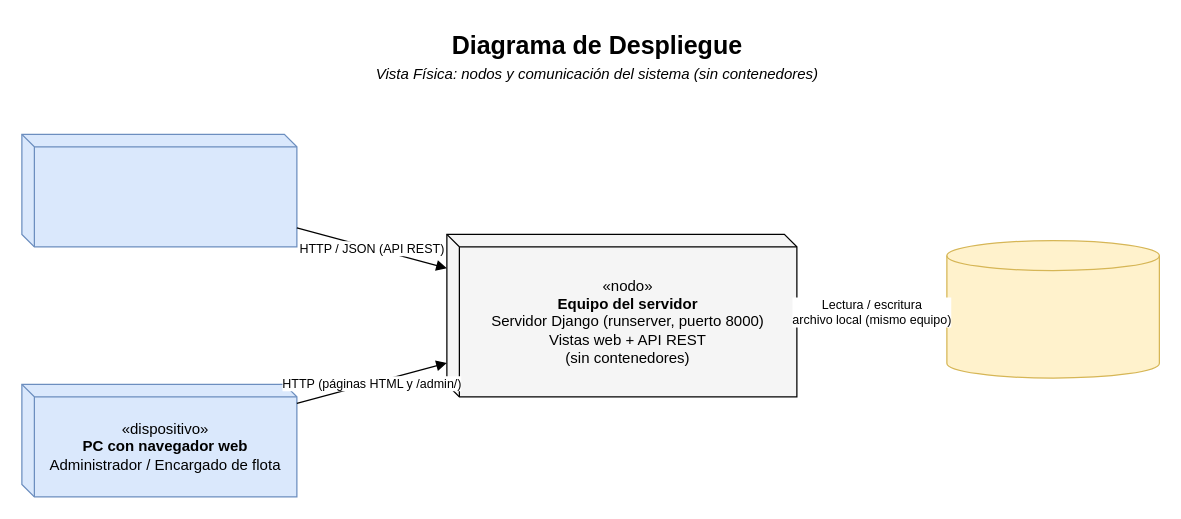
The diagram is 1181 pixels wide and 519 high, and some of its shapes have lost their labels. The box of each missing label's shape, as (x1, y1, x2, y2) in pixels:
Base de datos SQLite (archivo db.sqlite3): (946, 239, 1159, 378)
«dispositivo» Teléfono Android App FireFleet (Kotlin) Bombero en terreno: (21, 133, 297, 247)
